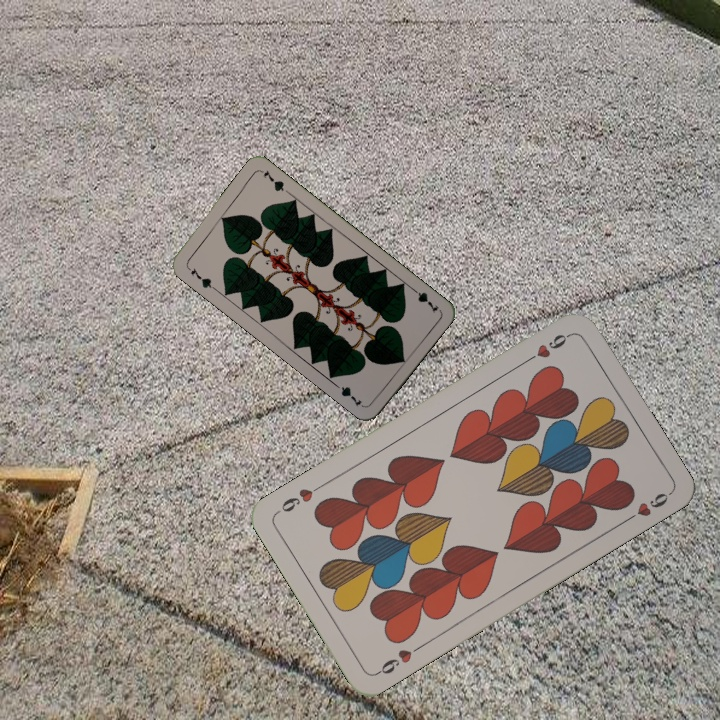G7: (407, 283, 441, 316), (183, 263, 218, 292)
H9: (372, 641, 425, 678), (521, 329, 574, 366)
